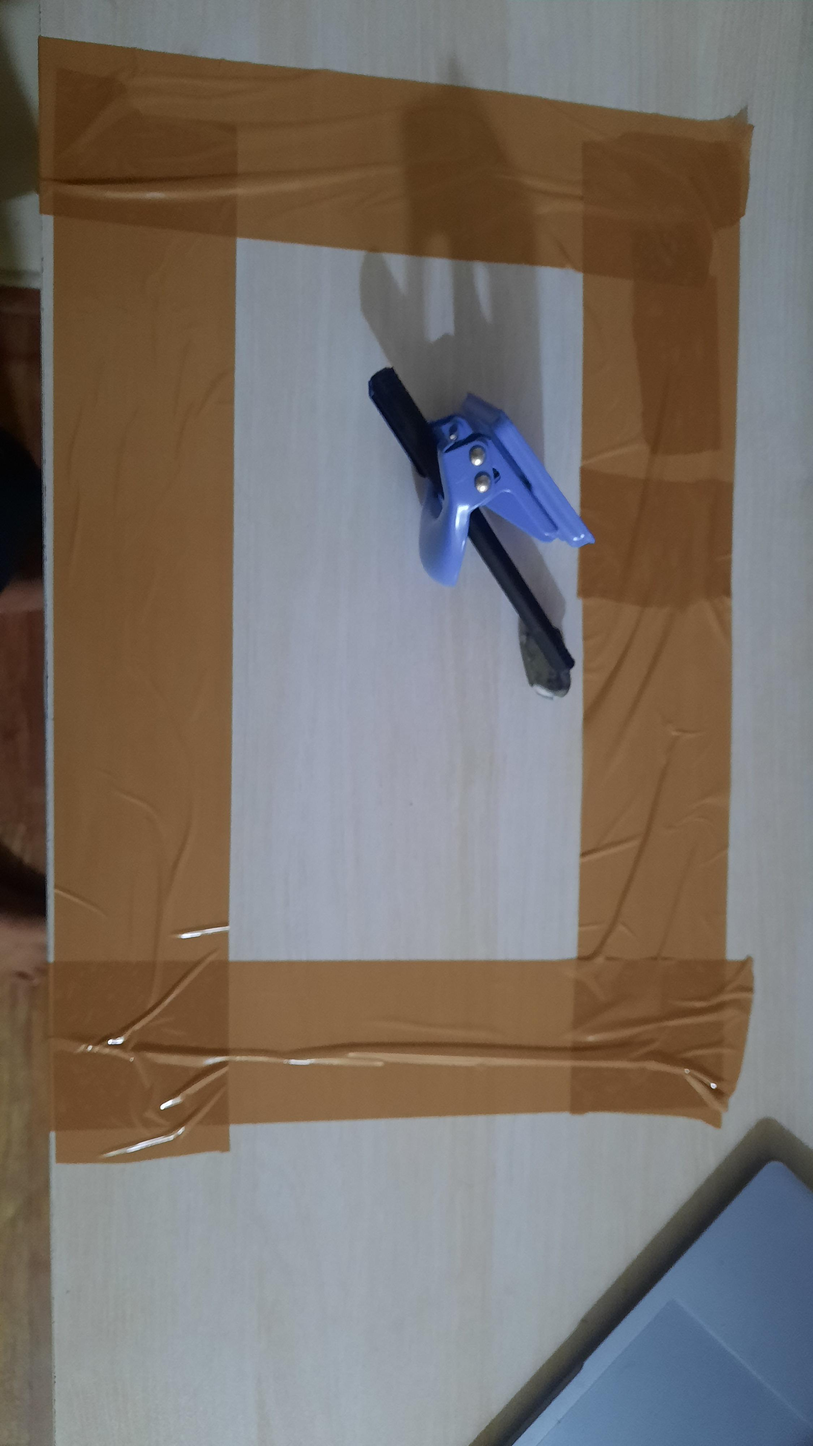Eraser: (517, 622, 571, 699)
Pen: (367, 366, 576, 676)
Punch: (418, 392, 596, 588)
